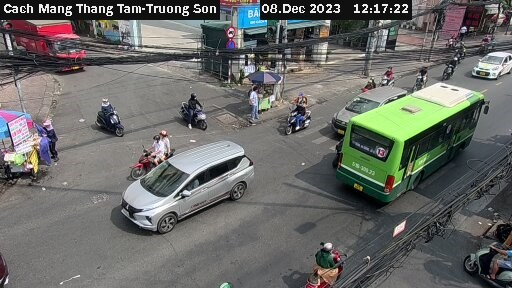bus: (337, 82, 491, 192)
car: (114, 143, 259, 230), (330, 84, 406, 134), (472, 47, 511, 82)
motorbike: (309, 237, 356, 284), (473, 235, 512, 284), (86, 102, 130, 137), (175, 94, 220, 125), (128, 137, 179, 164), (280, 102, 321, 131), (442, 58, 467, 83), (409, 66, 435, 85), (376, 66, 403, 84)
truck: (12, 20, 90, 68)
